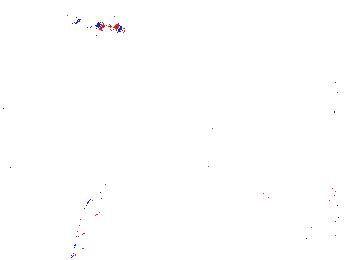X-ray fish: (157, 36, 219, 71)
glassfish: (174, 132, 276, 188), (74, 161, 124, 249)
red belly glassfish: (73, 15, 124, 37), (274, 73, 323, 89), (314, 74, 346, 92)
